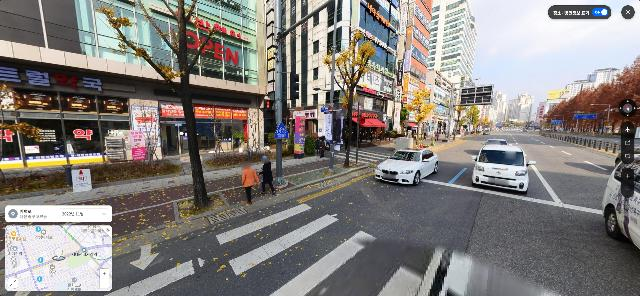ginkgo: (97, 0, 220, 210), (321, 27, 376, 168), (402, 84, 436, 146), (452, 97, 464, 140)
other: (467, 105, 479, 136)
